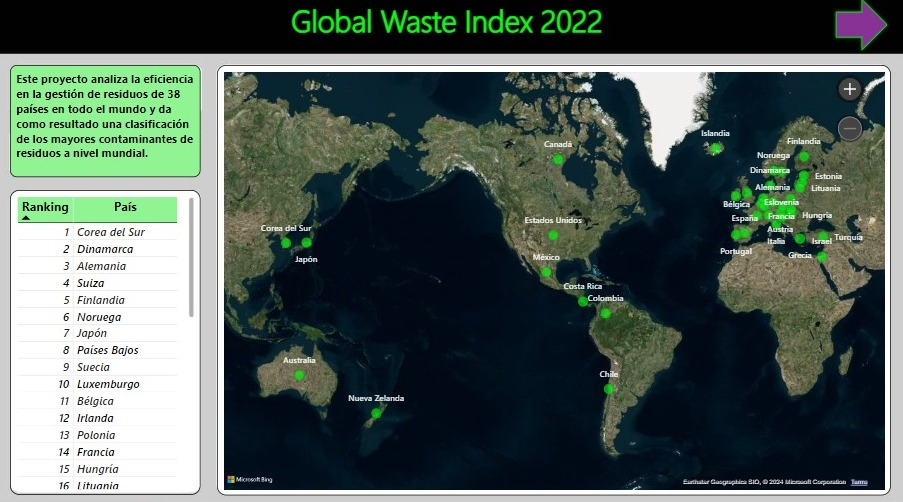

The dashboard page shown, as its layout file describes it:
{"tool":"powerbi","page":{"name":"Home","canvas":[1280,720],"ordinal":0},"visuals":[{"type":"map","title":" Paises","fields":{"Category":["Reciduos 2023 por Sensoneo. País               "]},"box":[308.7,97.1,955.1,610.1],"z":0},{"type":"textbox","box":[240.6,0,800,81.2],"z":1000},{"type":"tableEx","fields":{"Values":["Reciduos 2023 por Sensoneo. Ranking ","Reciduos 2023 por Sensoneo. País               "]},"box":[15.9,275.4,269.6,431.9],"z":2000},{"type":"textbox","box":[15.9,97.1,269.6,159.4],"z":3000},{"type":"shape","box":[1182.6,0,81.2,81.2],"z":4000}]}

Visuals, with their boxes in screenshot pixels (x1, y1, x2, y2), scaled from the page's 1280x720 canvas onto the 903x502 screenshot:
" Paises" map: crop(218, 68, 892, 493)
textbox: crop(170, 0, 734, 57)
tableEx - Reciduos 2023 por Sensoneo. Ranking  x Reciduos 2023 por Sensoneo. País               : crop(11, 192, 201, 493)
textbox: crop(11, 68, 201, 179)
shape: crop(834, 0, 892, 57)
